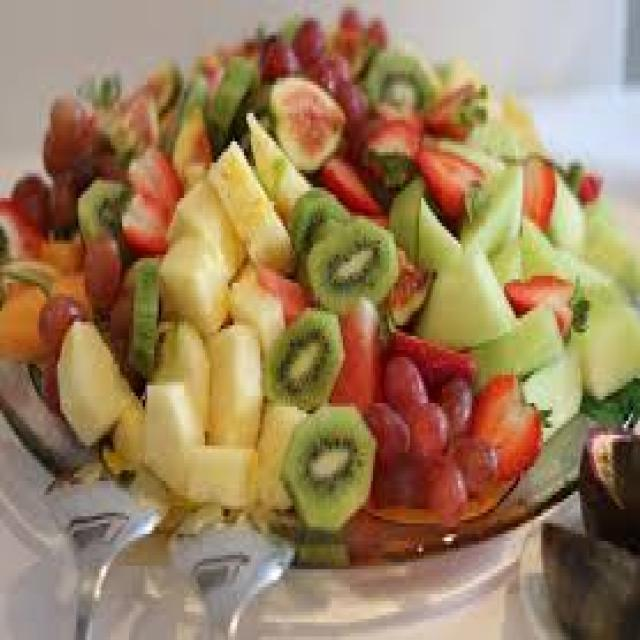Organik: (8, 14, 640, 502)
